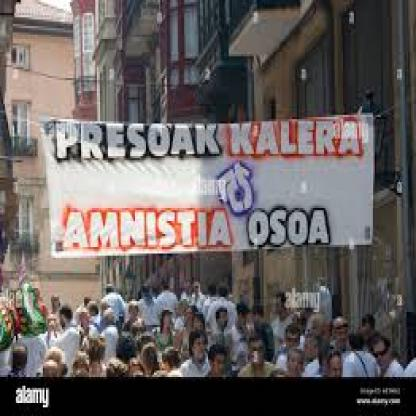BANNER: (37, 113, 376, 280)
